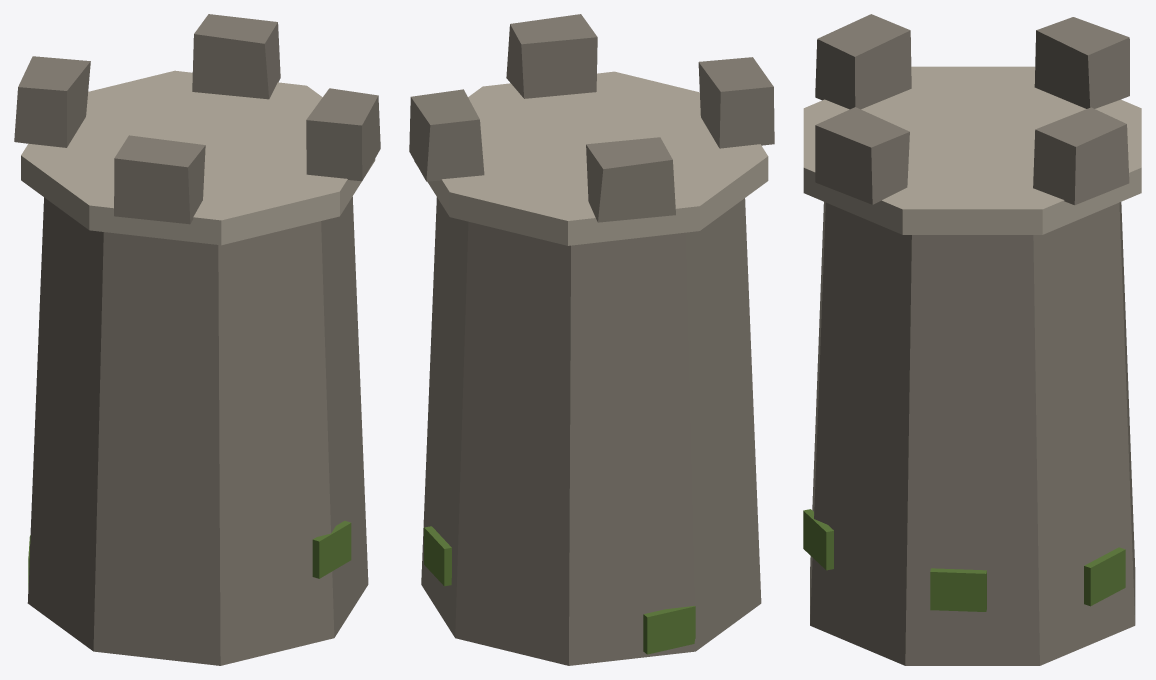
File: ArenaMauer_Turm.fbx
3 views of the same model, side by side, from view 1: azimuth 30°, elevation 25°; view 2: azimuth 150°, elevation 25°; view 3: azimuth 270°, elevation 25° (orthographic). The views are drawn at different scales.
Visible parts, largest first — view 1: ArenaMauer_Turm; view 2: ArenaMauer_Turm; view 3: ArenaMauer_Turm.
Boxes of the visible parts, <box> form: ArenaMauer_Turm: <box>14,14,380,665</box>; ArenaMauer_Turm: <box>409,14,774,665</box>; ArenaMauer_Turm: <box>803,14,1141,665</box>.
Size of the model in its own units: 2.44 by 4.05 by 2.4.
